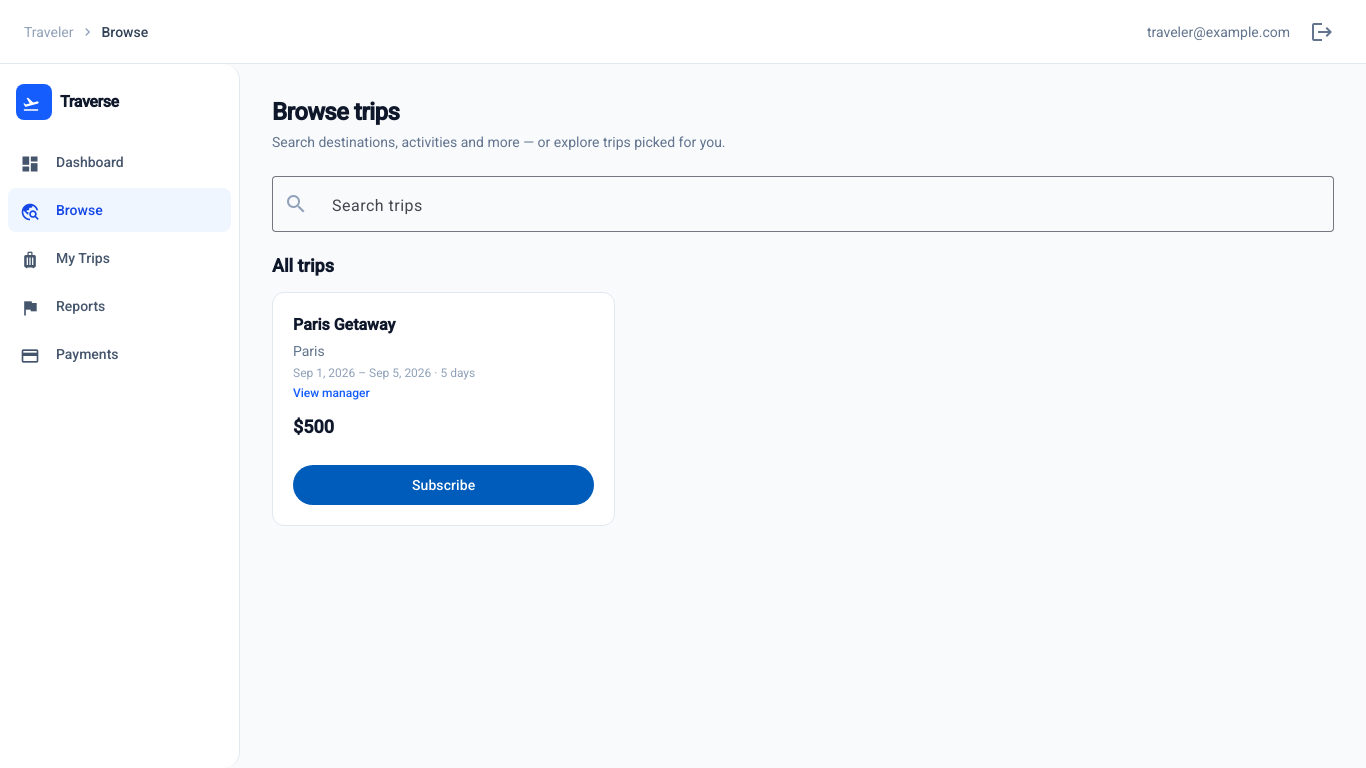
Test case: Traveler browse, search & subscribe › subscribes to a trip
Click the button "Subscribe": coordinates (444, 485) [293,465,594,505]
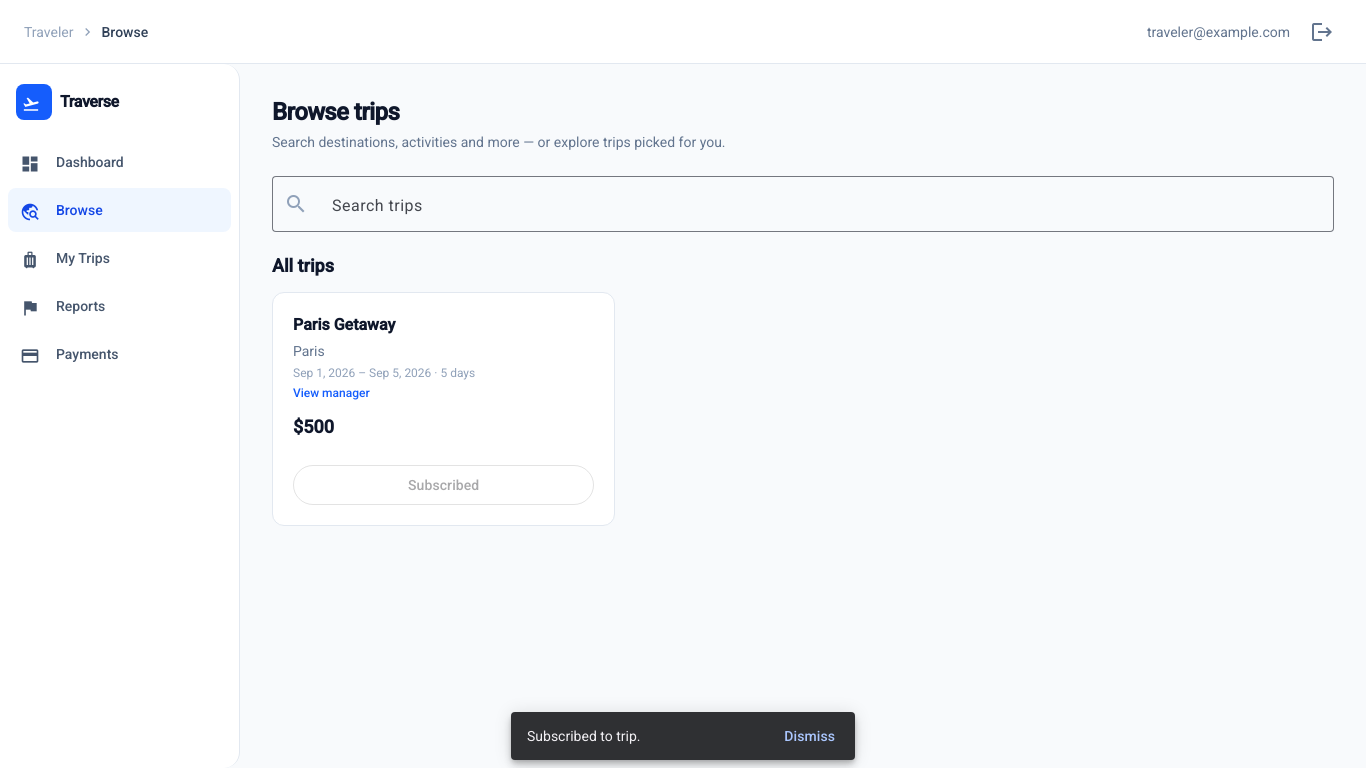
expect the text "Subscribed to trip." is shown: met, box [527,728,640,744]
